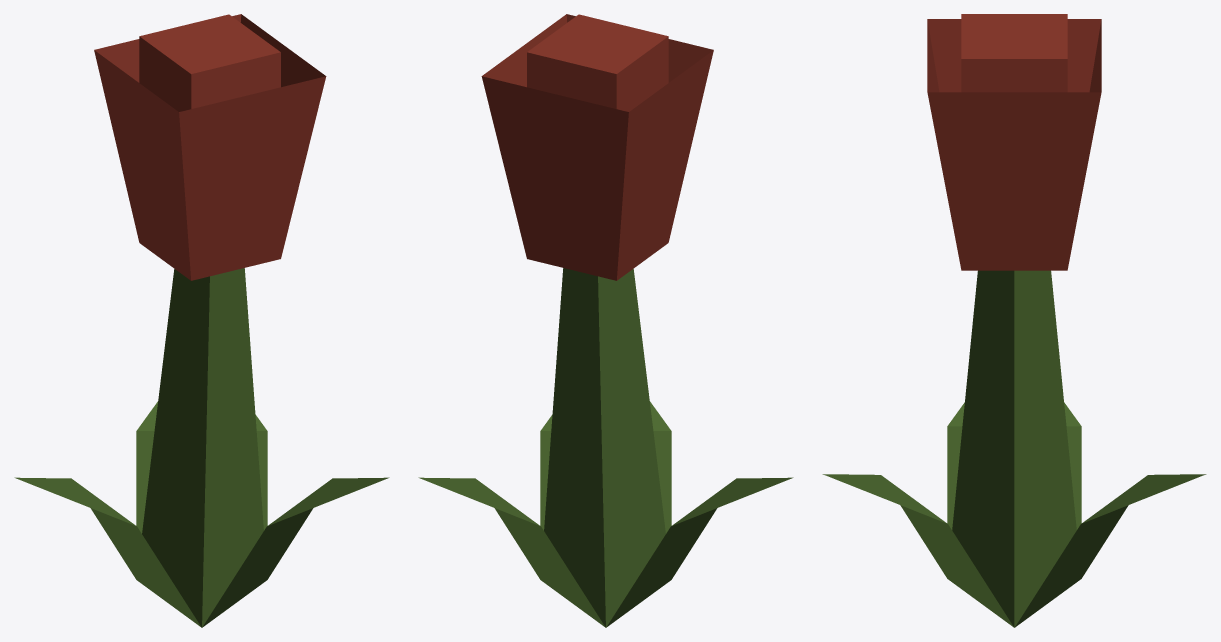
File: flower_red_a.glb
3 views of the same model, side by side, from view 1: azimuth 30°, elevation 25°; view 2: azimuth 150°, elevation 25°; view 3: azimuth 270°, elevation 25° (orthographic). The views are drawn at different scales.
Visible parts, largest first — view 1: flower_redA; view 2: flower_redA; view 3: flower_redA.
Part boxes in pixels (box(x1,y1,x2,y2)): flower_redA: box(14, 14, 389, 627); flower_redA: box(418, 14, 793, 627); flower_redA: box(822, 14, 1206, 627).
Bounding box in the file's own units: 0.1591 × 0.2925 × 0.1811.
